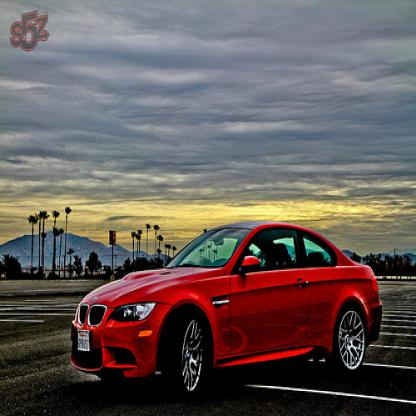Vehicle: (72, 223, 385, 394)
